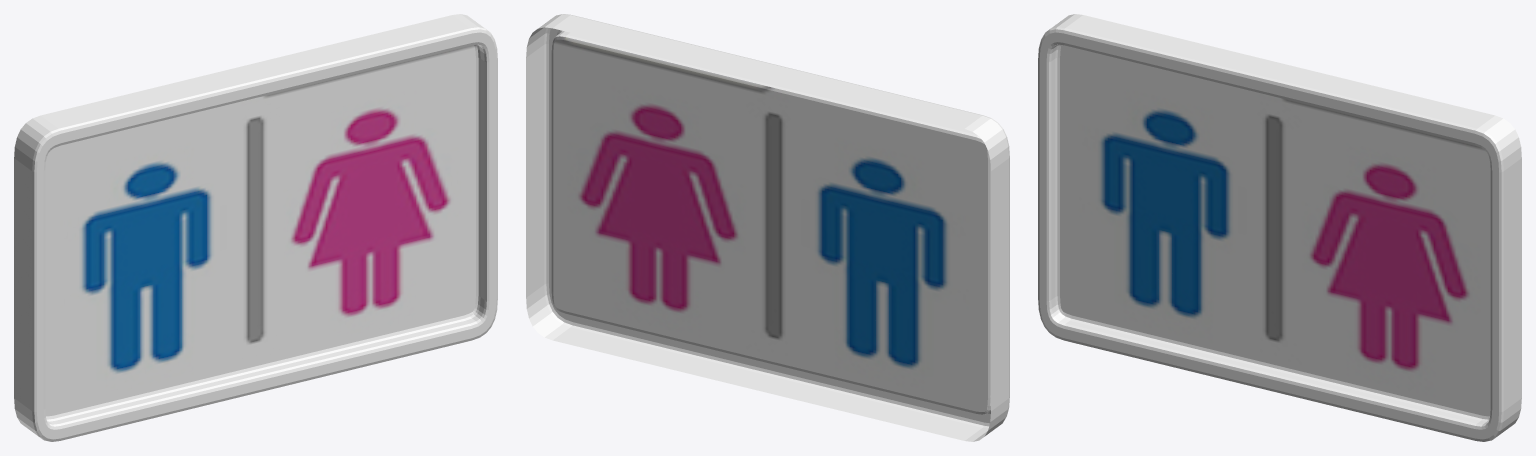
The picture shows the model from 3 angles, left to right: view 1: azimuth 30°, elevation 25°; view 2: azimuth 150°, elevation 25°; view 3: azimuth 330°, elevation 25°; orthographic projection.
Visible parts, largest first — view 1: Pancart_WC; view 2: Pancart_WC; view 3: Pancart_WC.
Boxes of the visible parts, x1,y1,x2,y2 form: Pancart_WC: [14, 14, 497, 441]; Pancart_WC: [526, 14, 1009, 441]; Pancart_WC: [1038, 14, 1521, 441].
Size of the model in its own units: 49.51 by 31.76 by 3.7.
1 material, 1 textured.
